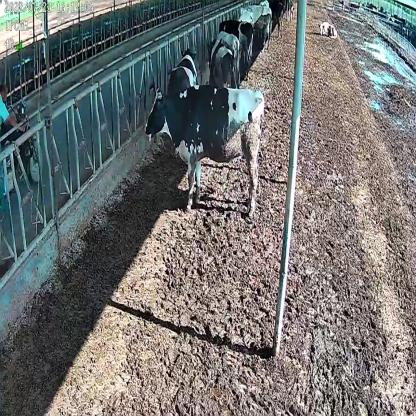cow: (145, 85, 264, 218), (208, 35, 236, 89), (166, 49, 198, 94), (317, 22, 339, 40)
